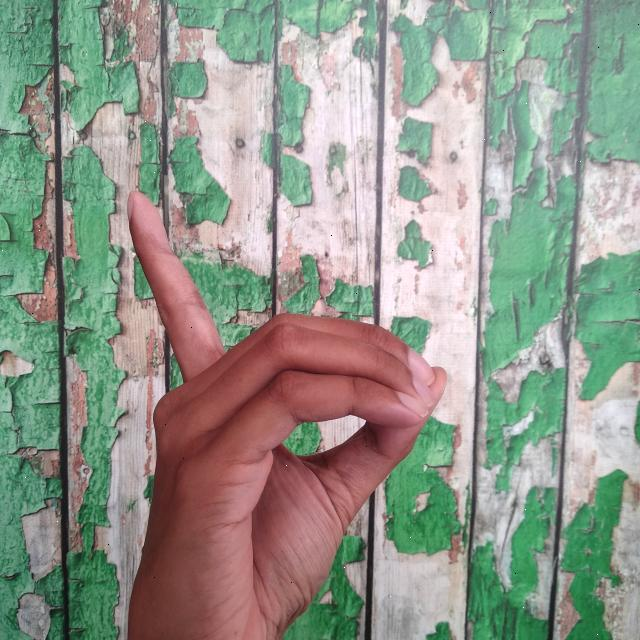D: (120, 183, 454, 640)
